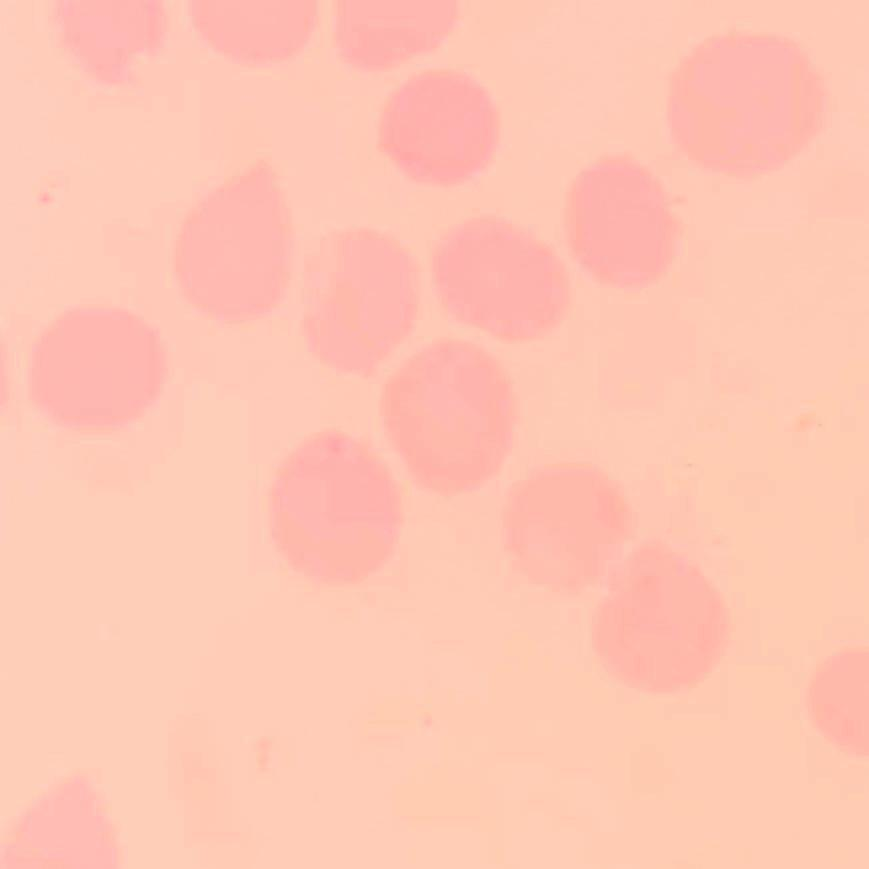Uninfected: (268, 431, 403, 590), (168, 153, 293, 321), (595, 541, 728, 696), (670, 31, 818, 169), (380, 341, 507, 493), (292, 231, 425, 365), (555, 153, 680, 291), (500, 461, 633, 588), (32, 298, 162, 420), (435, 211, 563, 333), (380, 68, 492, 184)
